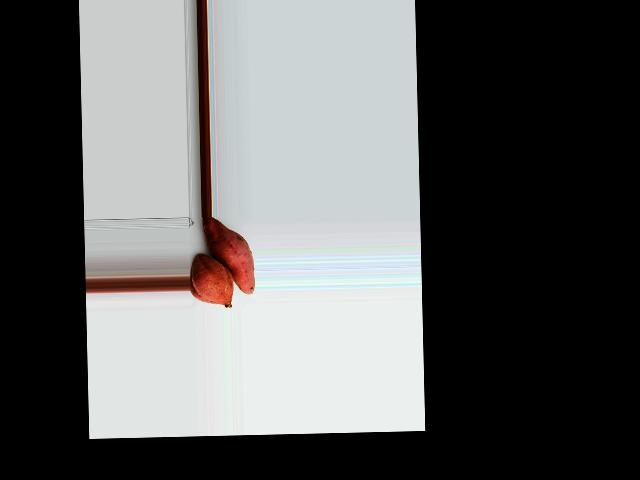sweet_potato: (194, 256, 230, 309)
